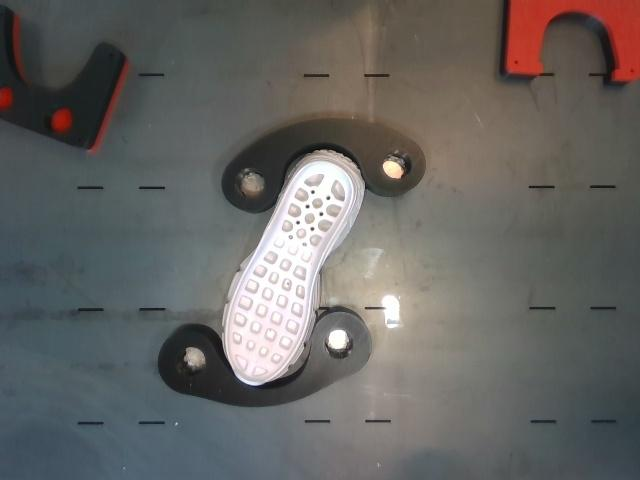shoes: (226, 161, 352, 385)
